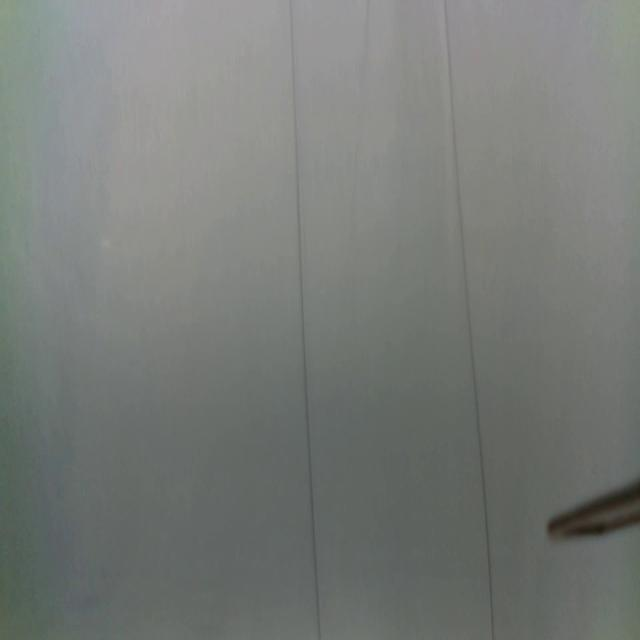crease: (443, 1, 495, 640), (288, 0, 322, 640), (347, 0, 372, 252)
